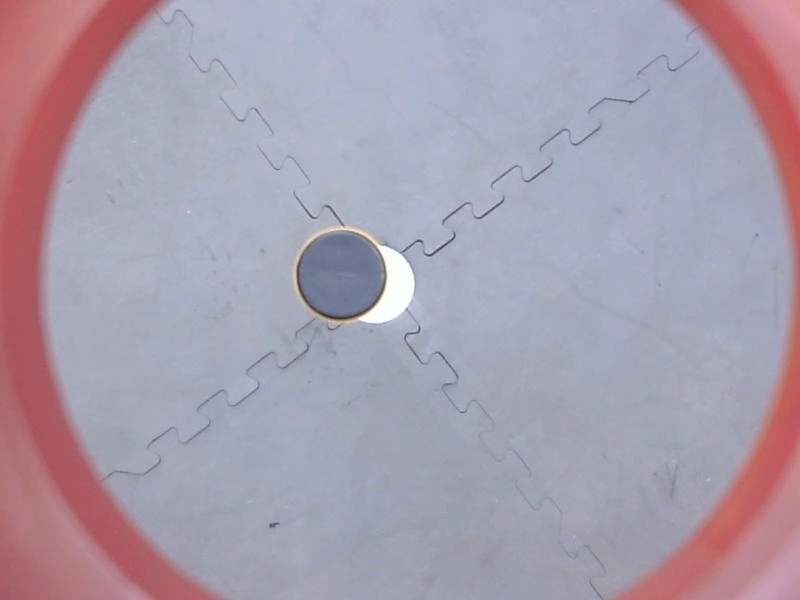tip: (286, 220, 396, 327)
